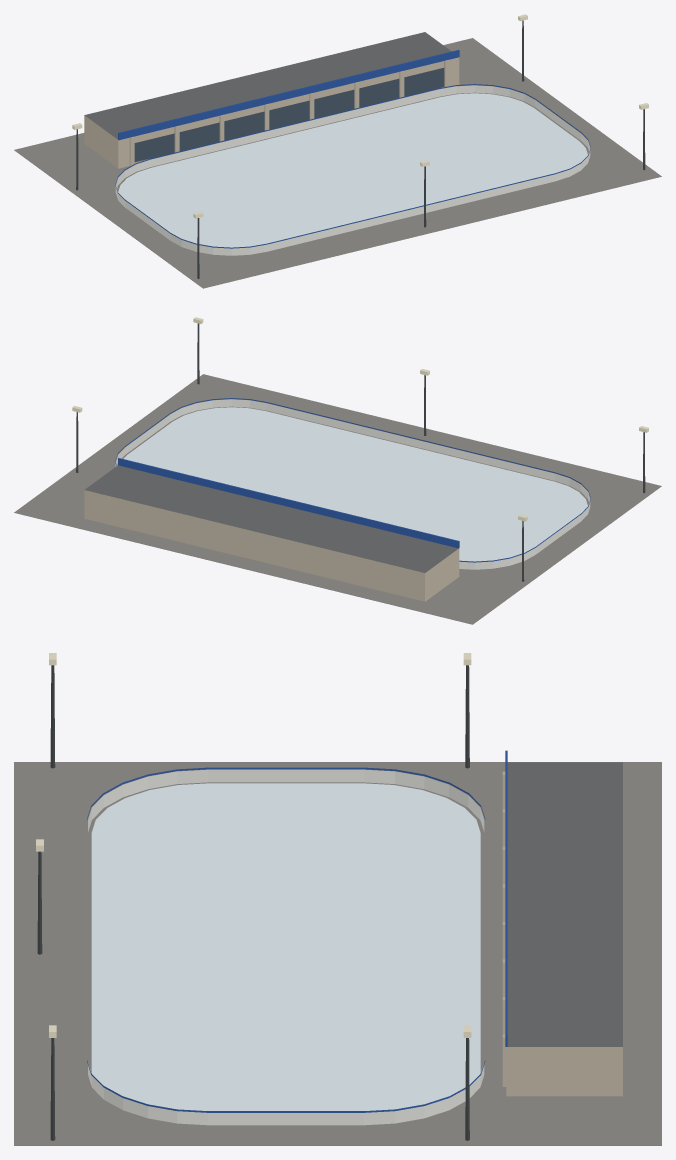
Rendered from wollman_rink.glb.
3 views of the same model, one above another, from view 1: azimuth 30°, elevation 25°; view 2: azimuth 150°, elevation 25°; view 3: azimuth 270°, elevation 25° (orthographic). The views are drawn at different scales.
Visible parts, largest first — view 1: wollman_rink; view 2: wollman_rink; view 3: wollman_rink.
Boxes of the visible parts, left/top/right/bottom form: wollman_rink: left=14, top=14, right=661, bottom=288; wollman_rink: left=14, top=317, right=661, bottom=624; wollman_rink: left=14, top=653, right=661, bottom=1145.
Size of the model in its own units: 70 by 9.52 by 50.
Materials: 1 (1 with a texture image).
